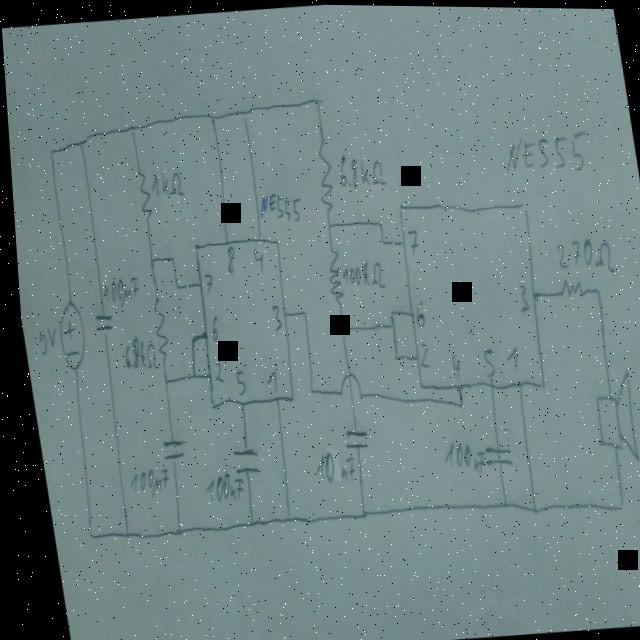capacitor: (222, 446, 254, 473), (475, 439, 506, 464), (152, 436, 180, 460), (335, 424, 362, 448), (88, 311, 109, 331)
crossover: (329, 367, 358, 401)
junction: (605, 490, 621, 515), (320, 214, 331, 235), (332, 318, 343, 339), (309, 90, 321, 109), (43, 142, 54, 162), (349, 501, 361, 519), (521, 498, 533, 515), (236, 105, 247, 122), (492, 492, 503, 509), (204, 107, 214, 125), (275, 506, 285, 524), (588, 281, 598, 299), (124, 119, 134, 136), (373, 229, 383, 246), (385, 343, 394, 361), (382, 304, 392, 320), (73, 135, 82, 152), (371, 214, 380, 231), (449, 395, 458, 410), (166, 523, 176, 536), (184, 331, 192, 346), (240, 514, 248, 529), (382, 316, 390, 330), (294, 304, 302, 318), (301, 381, 309, 395), (143, 251, 151, 265), (168, 277, 176, 290), (78, 527, 86, 540), (164, 252, 172, 264), (155, 374, 163, 386), (115, 527, 122, 540), (184, 369, 191, 379)
resistor: (307, 133, 334, 212), (318, 241, 341, 306), (144, 294, 164, 357), (131, 165, 150, 224), (551, 272, 582, 300)
source: (47, 294, 85, 377)
text: (496, 124, 589, 175), (549, 232, 612, 274), (332, 148, 384, 189), (434, 436, 483, 476), (252, 187, 301, 224), (304, 448, 351, 484), (114, 330, 153, 373), (119, 464, 165, 498), (94, 273, 138, 308), (335, 256, 380, 290), (195, 469, 238, 502), (144, 168, 182, 199), (29, 321, 55, 357), (497, 340, 515, 373), (400, 224, 416, 257), (511, 278, 526, 312), (475, 343, 490, 376), (408, 296, 423, 329), (219, 241, 234, 273), (410, 336, 425, 367), (264, 300, 278, 333), (247, 240, 261, 272), (227, 365, 241, 395), (443, 348, 456, 377), (203, 312, 215, 342), (205, 357, 218, 383), (258, 365, 271, 390), (197, 269, 209, 294)
